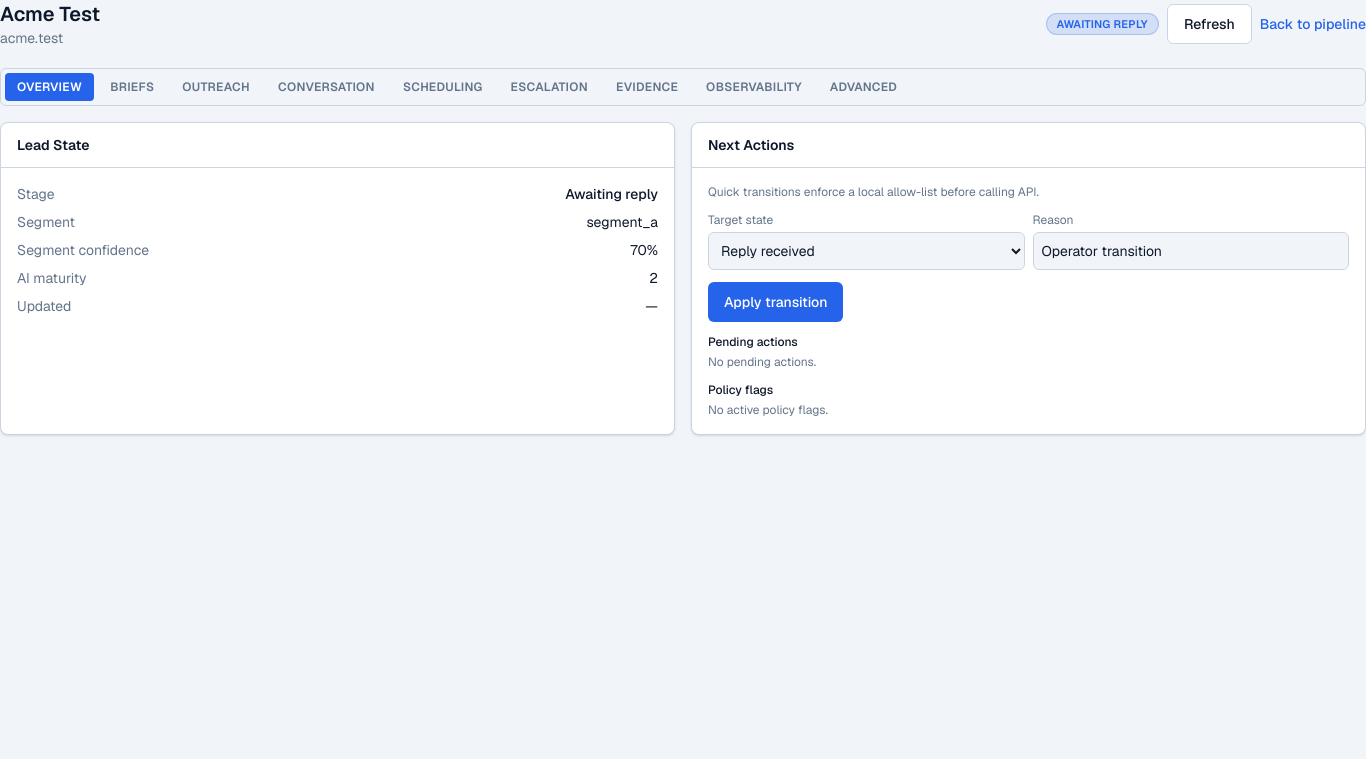
Test: LeadDetail › shows scheduling actions and hides outbound reply composer when next action is schedule
Check: the heading "Acme Test" is shown, box [0,0,100,28]
Click the tab "Conversation" at (326, 87), box [266,73,387,101]
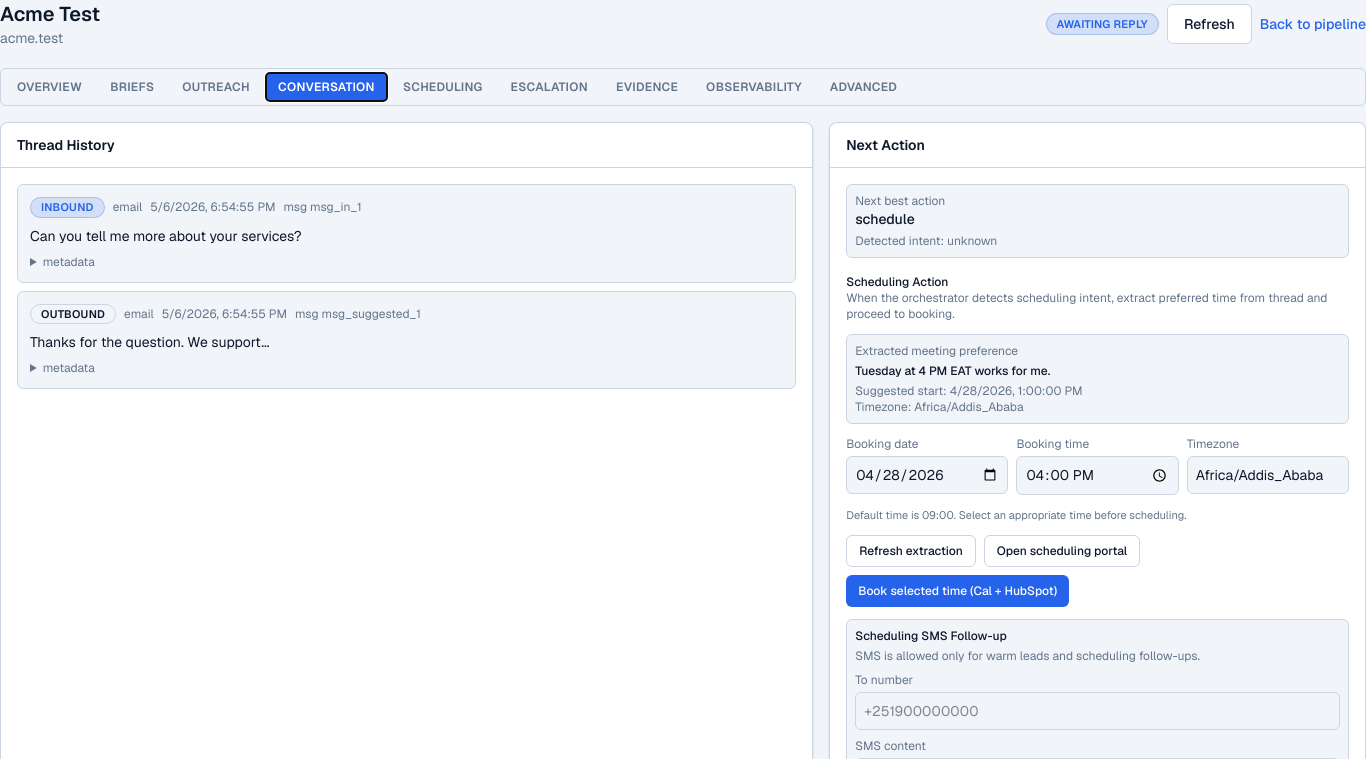
Check: the text "Extracted meeting preference" is shown, box [855,343,1018,359]
Check: the text "Tuesday at 4 PM EAT works for me." is shown, box [855,363,1050,379]
Check: the text "Default time is 09:00" is shown, box [846,508,1186,522]
